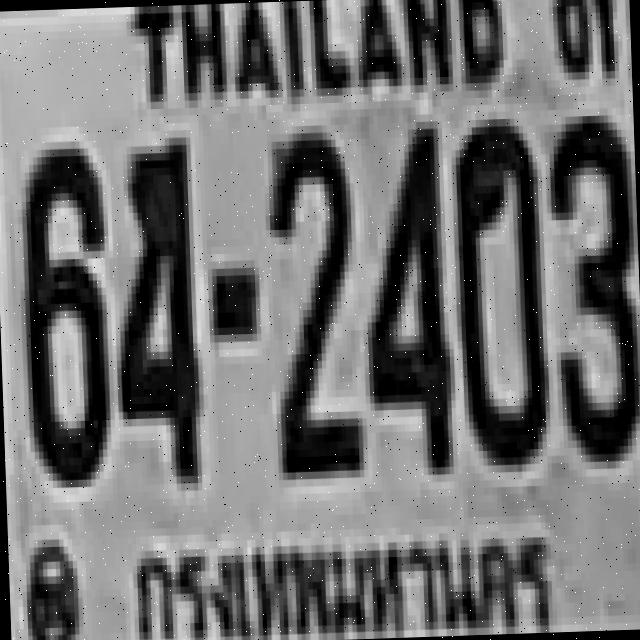0: (449, 110, 547, 458)
2: (264, 124, 357, 466), (262, 124, 354, 428)
3: (544, 107, 636, 455)
4: (356, 113, 448, 470), (109, 130, 198, 478)
6: (15, 140, 108, 481)
Bangkok: (121, 516, 562, 640)
